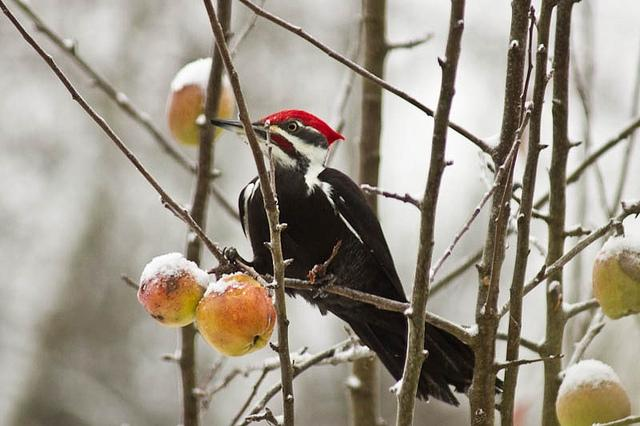apple: (196, 274, 276, 356), (164, 58, 236, 148), (138, 253, 210, 328), (556, 359, 630, 426), (592, 237, 640, 321)
